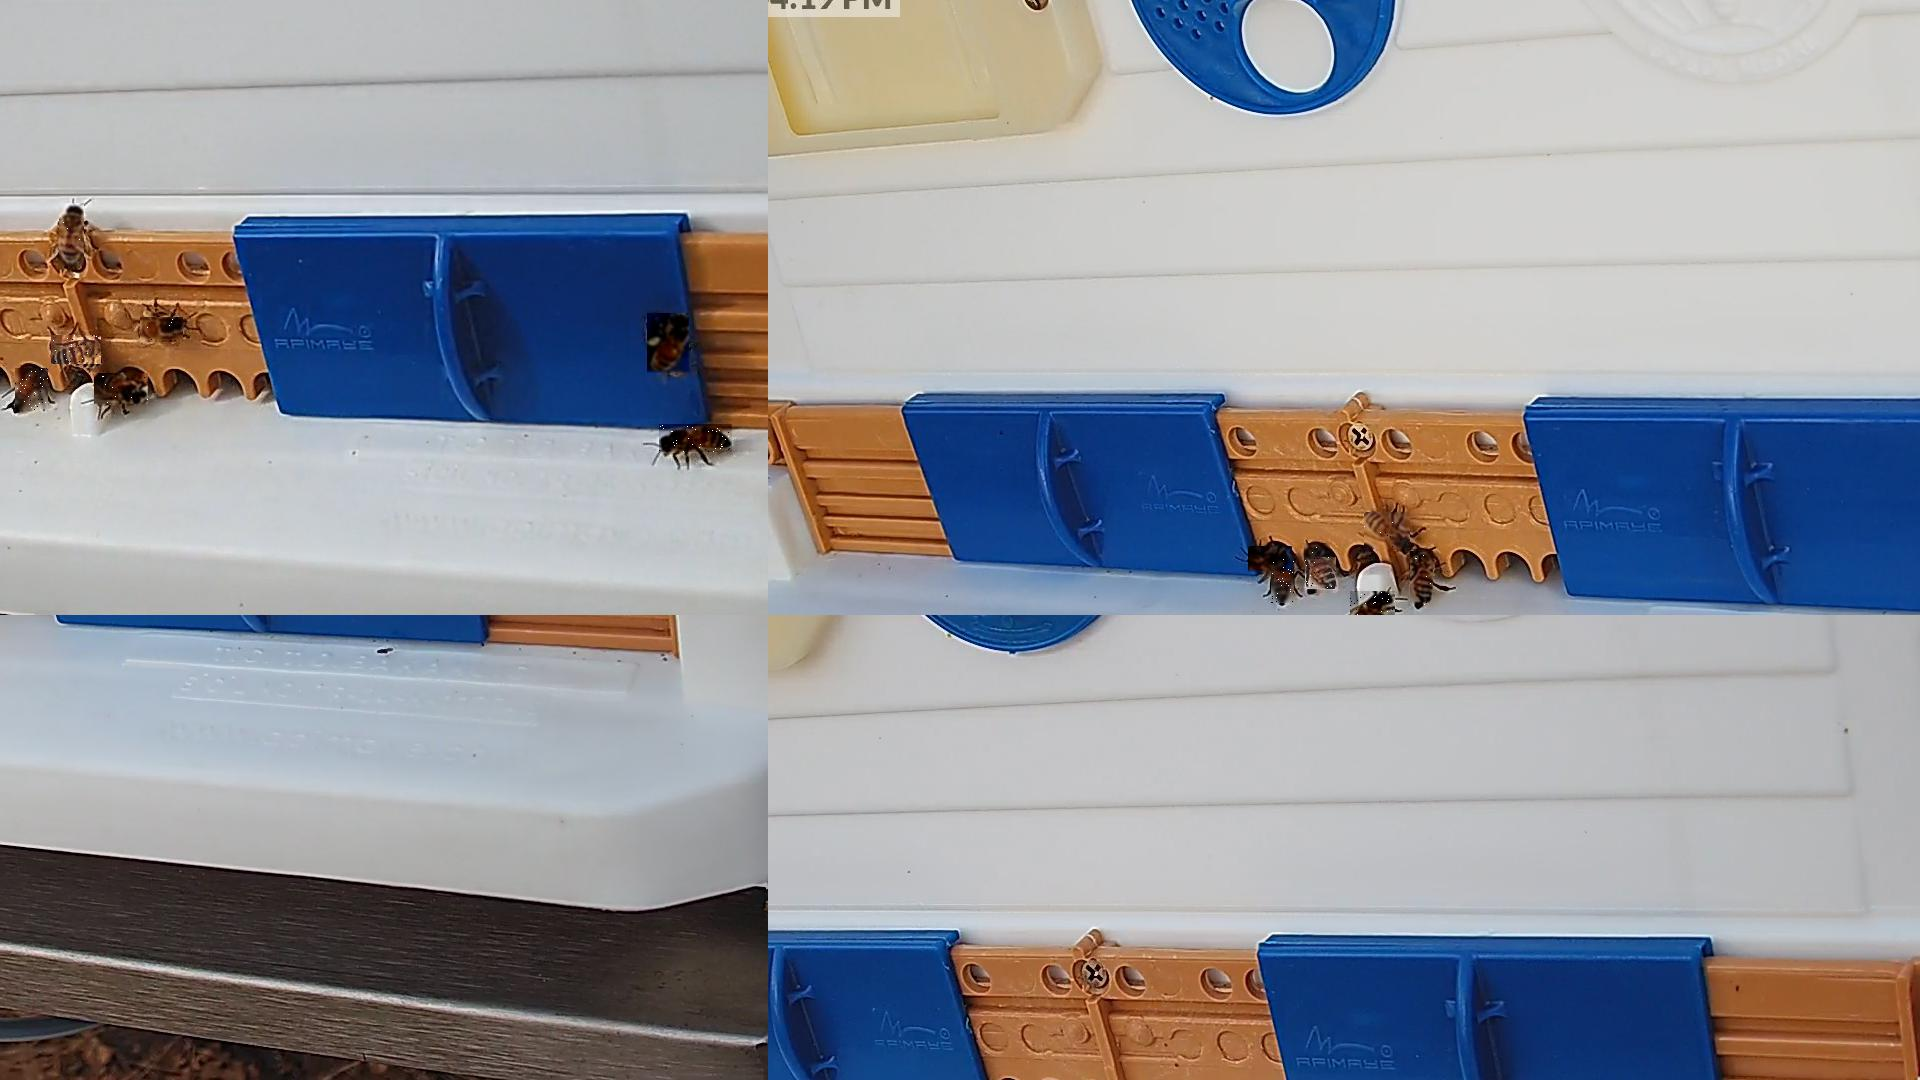bee: (659, 425, 733, 454), (1364, 513, 1411, 551), (94, 373, 149, 405), (59, 204, 86, 269), (51, 335, 103, 365), (15, 369, 49, 411), (1410, 551, 1435, 607), (1249, 547, 1294, 575), (1305, 558, 1337, 593), (1271, 558, 1295, 605), (140, 318, 185, 343), (1350, 591, 1396, 615), (1304, 543, 1331, 562)
pollenbee: (647, 314, 690, 376)
